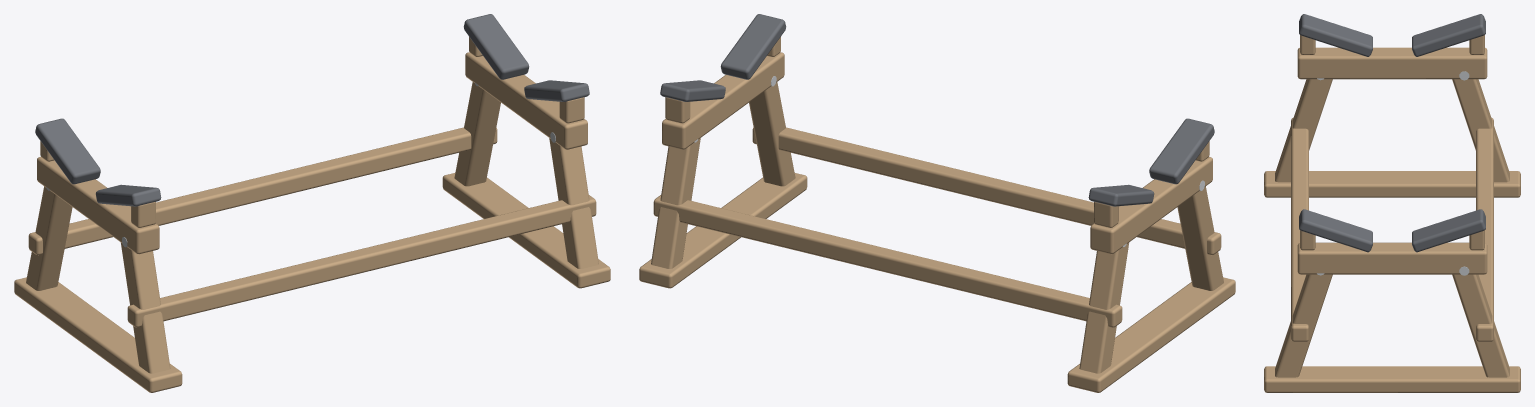
File: beach-surf-and-paddle-kit-kayak-storage-rack-fe80bcdf__39433.glb
3 views of the same model, side by side, from view 1: azimuth 30°, elevation 25°; view 2: azimuth 150°, elevation 25°; view 3: azimuth 270°, elevation 25° (orthographic). The views are drawn at different scales.
Visible parts, largest first — view 1: kayak-storage-rack-timber, kayak-storage-rack-charcoal; view 2: kayak-storage-rack-timber, kayak-storage-rack-charcoal; view 3: kayak-storage-rack-timber, kayak-storage-rack-charcoal.
Boxes of the visible parts, box(x1,y1,x2,y2) form: kayak-storage-rack-timber: box(14, 37, 610, 392); kayak-storage-rack-charcoal: box(35, 14, 589, 206); kayak-storage-rack-timber: box(639, 37, 1235, 392); kayak-storage-rack-charcoal: box(660, 14, 1214, 206); kayak-storage-rack-timber: box(1264, 35, 1520, 392); kayak-storage-rack-charcoal: box(1299, 14, 1485, 252).
Size of the model in its own units: 1.94 by 0.7394 by 1.
